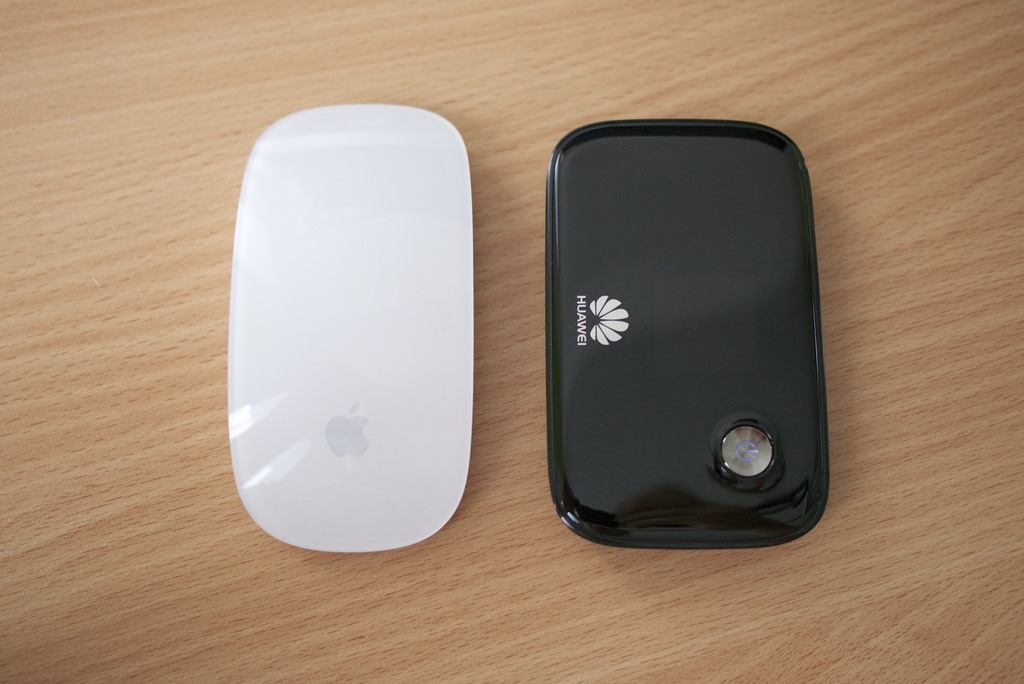Mobile-phone: (544, 117, 860, 545)
